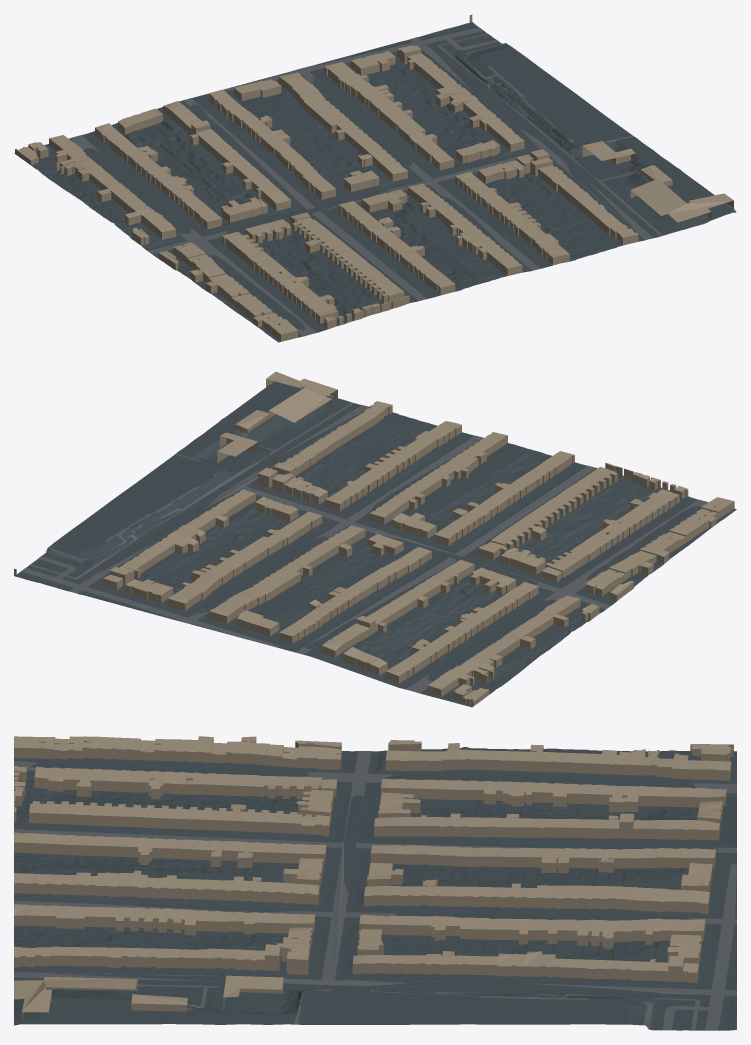
Rendered from epsg26910-1416-10880.lod0.glb.
3 views of the same model, one above another, from view 1: azimuth 30°, elevation 25°; view 2: azimuth 150°, elevation 25°; view 3: azimuth 270°, elevation 25° (orthographic). The views are drawn at different scales.
Parts seen in each view (by area): view 1: epsg26910-1416-10880-lod0; view 2: epsg26910-1416-10880-lod0; view 3: epsg26910-1416-10880-lod0.
Part boxes in pixels (x1,y1,x2,y2): epsg26910-1416-10880-lod0: [14, 14, 736, 342]; epsg26910-1416-10880-lod0: [14, 371, 736, 707]; epsg26910-1416-10880-lod0: [14, 736, 736, 1030].
Size of the model in its own units: 384 by 26.33 by 384.
